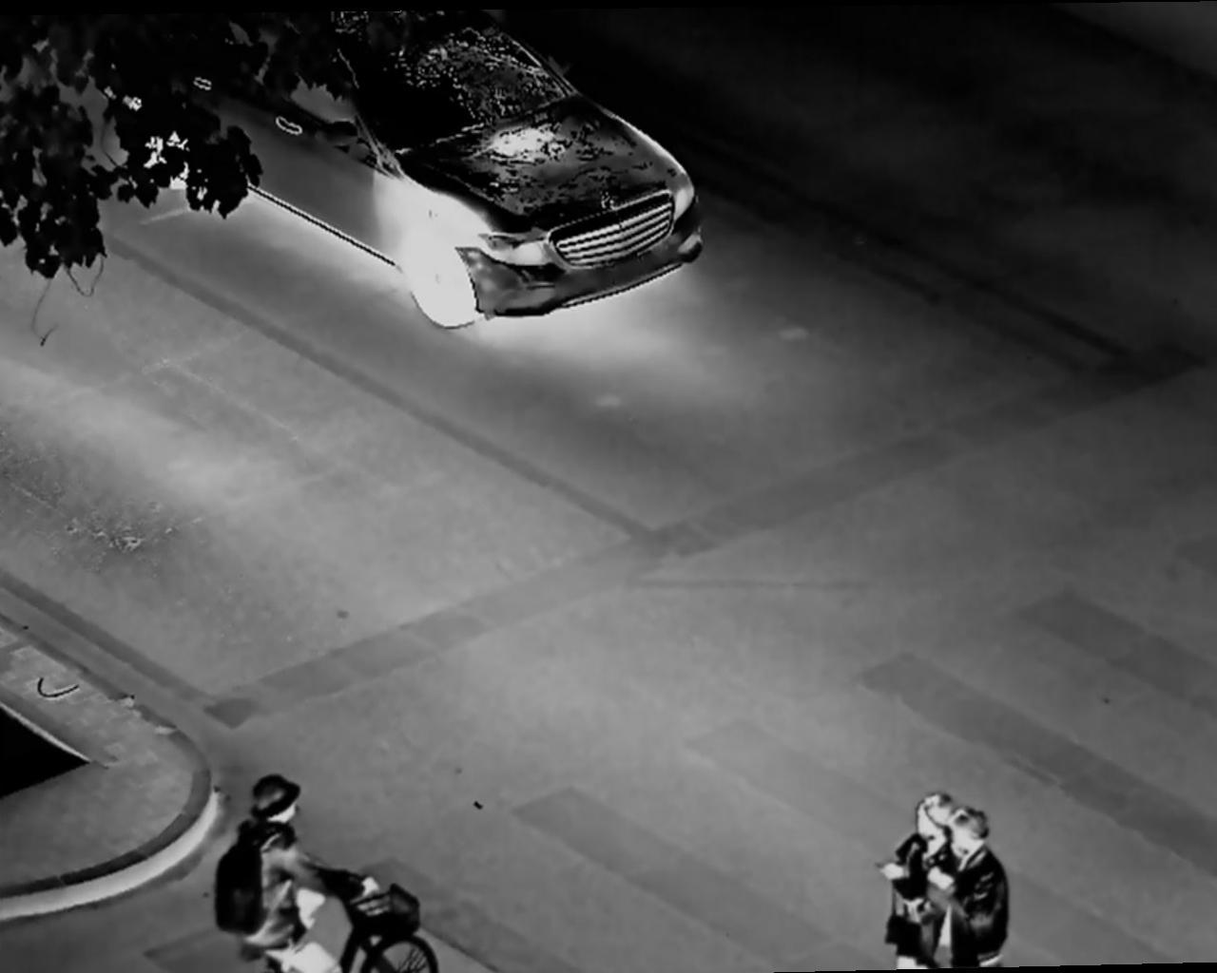person: (214, 769, 382, 973), (883, 790, 951, 973), (941, 804, 1010, 973)
